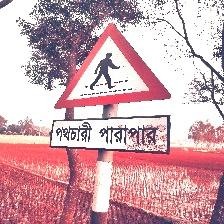Pedestrian-crossing: (52, 23, 173, 154)
